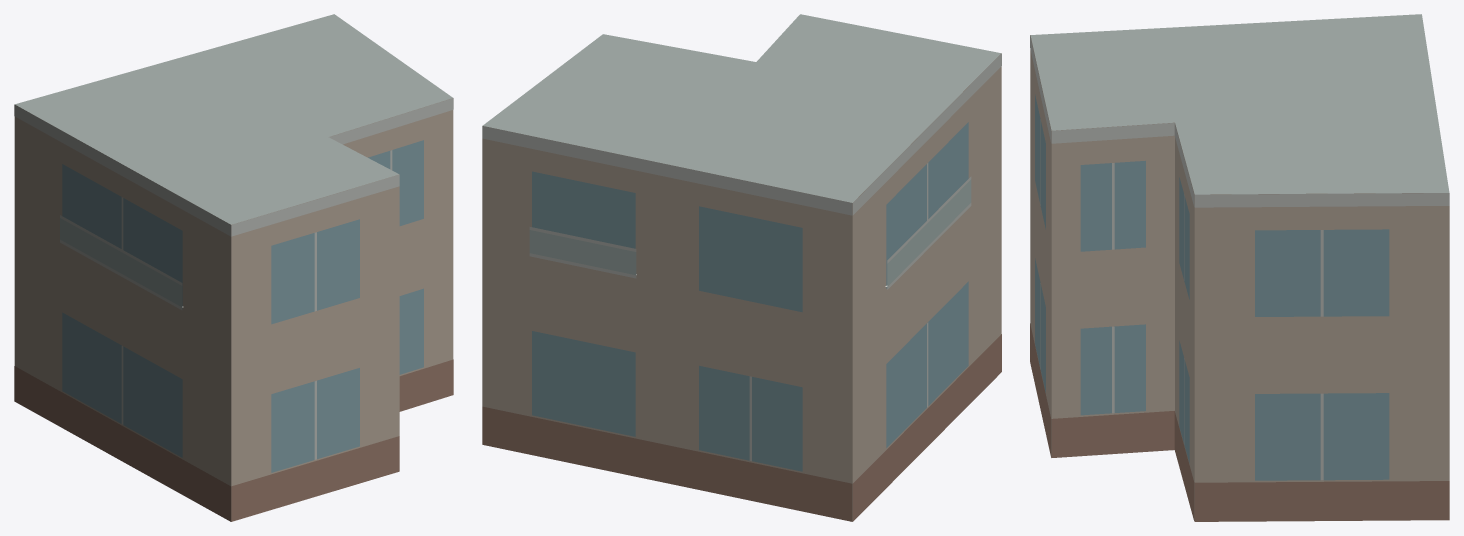
File: survey-upis-32896221.glb
The picture shows the model from 3 angles, left to right: view 1: azimuth 30°, elevation 25°; view 2: azimuth 150°, elevation 25°; view 3: azimuth 270°, elevation 25°; orthographic projection. The views are drawn at different scales.
Parts seen in each view (by area): view 1: survey-upis-32896221.tmp; view 2: survey-upis-32896221.tmp; view 3: survey-upis-32896221.tmp.
Part boxes in pixels (bbox=[...]): survey-upis-32896221.tmp: bbox=[14, 14, 453, 521]; survey-upis-32896221.tmp: bbox=[482, 14, 1001, 521]; survey-upis-32896221.tmp: bbox=[1030, 14, 1449, 521].
Size of the model in its own units: 7.23 by 6.1 by 7.09.
